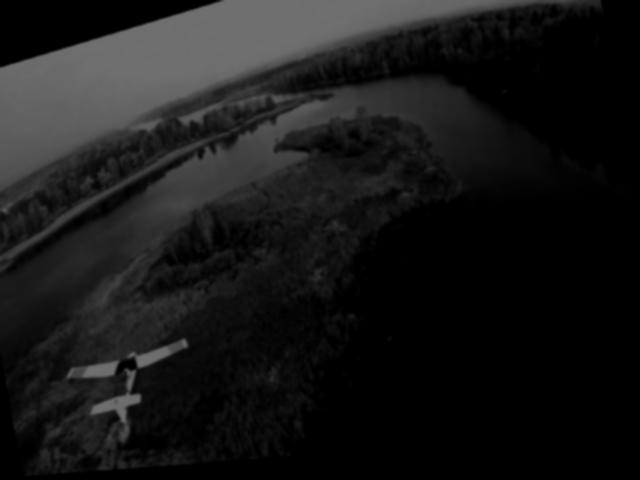hedef: (59, 318, 208, 435)
